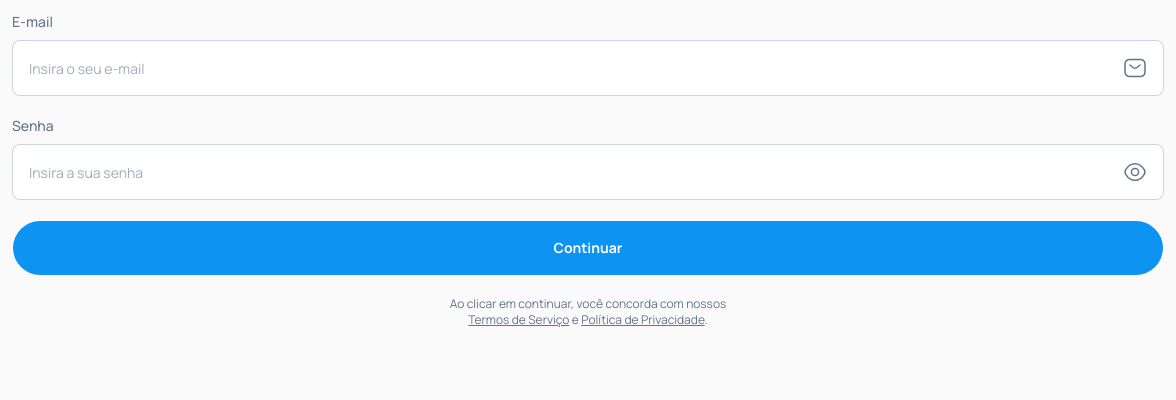
Test case: LoginForm › shows validation error for invalid email
The image size is (1176, 400).
In the field with placeholder "Insira o seu e-mail": (576, 68) [29, 41, 1123, 95], type "invalido"
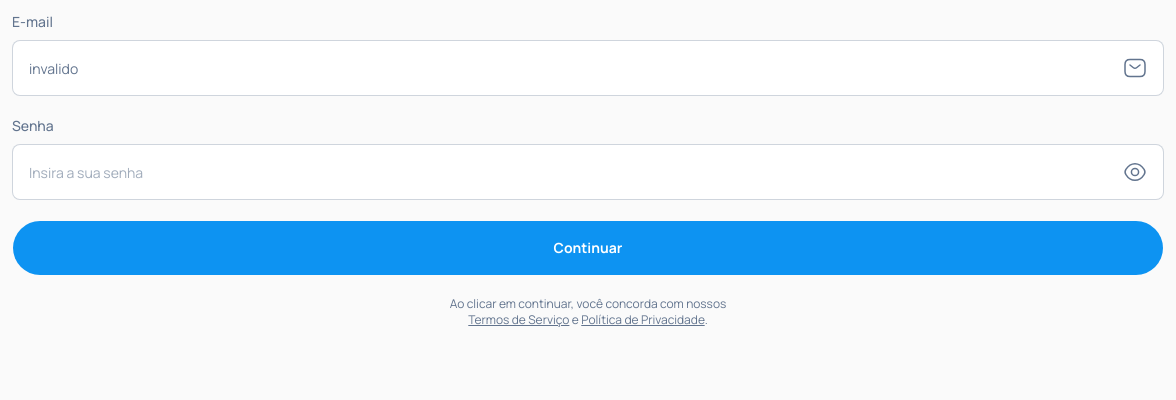
Click the button "Continuar": (588, 248) [12, 220, 1164, 276]
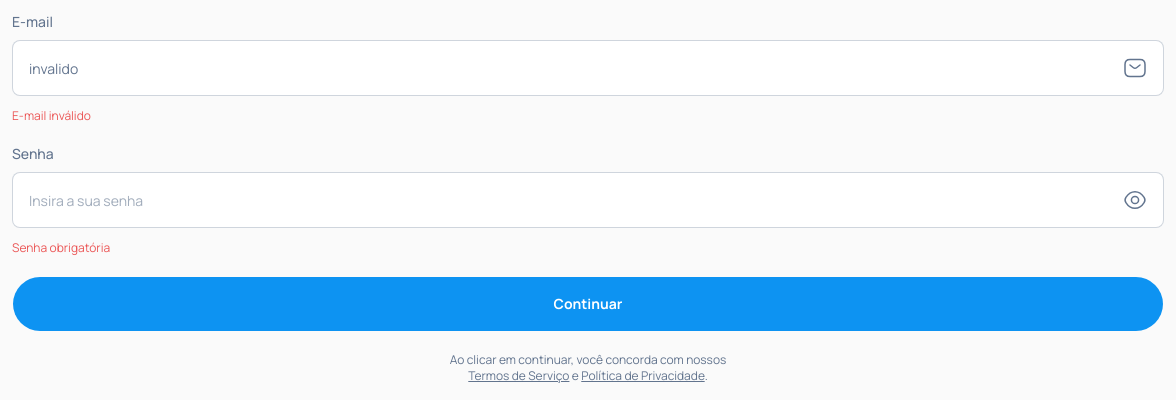
Now the text "E-mail inválido" is shown, box [12, 107, 91, 124]
